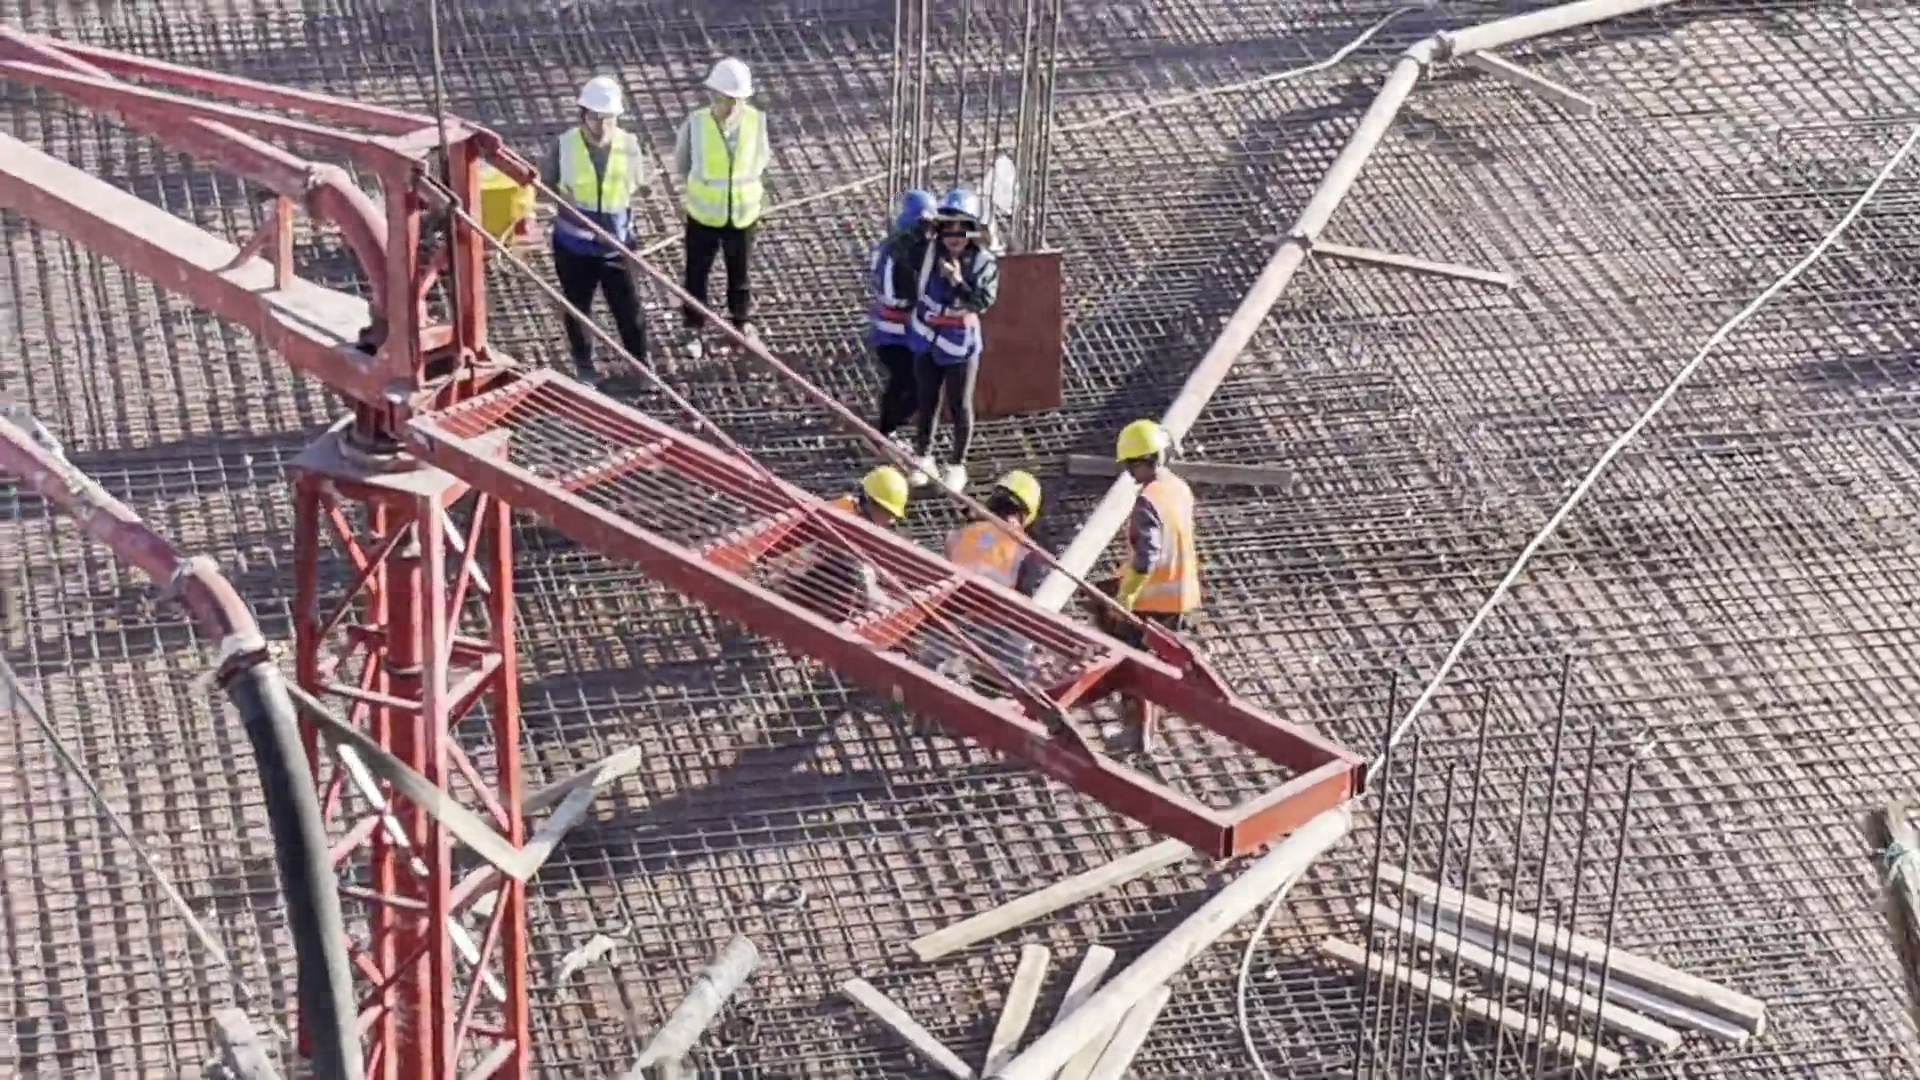helmet: (869, 469, 913, 511), (1119, 414, 1158, 461), (996, 473, 1034, 519), (580, 80, 621, 118), (698, 67, 740, 103), (892, 195, 928, 230), (946, 198, 989, 222)
person: (530, 82, 681, 434), (1074, 417, 1204, 742), (666, 58, 766, 387), (903, 192, 1002, 494), (869, 189, 941, 491), (939, 467, 1058, 619), (797, 465, 907, 550)
vest: (692, 111, 777, 238), (555, 142, 639, 250), (1125, 495, 1196, 621), (911, 242, 978, 360), (874, 249, 917, 341), (948, 531, 1016, 579), (838, 499, 858, 511)
